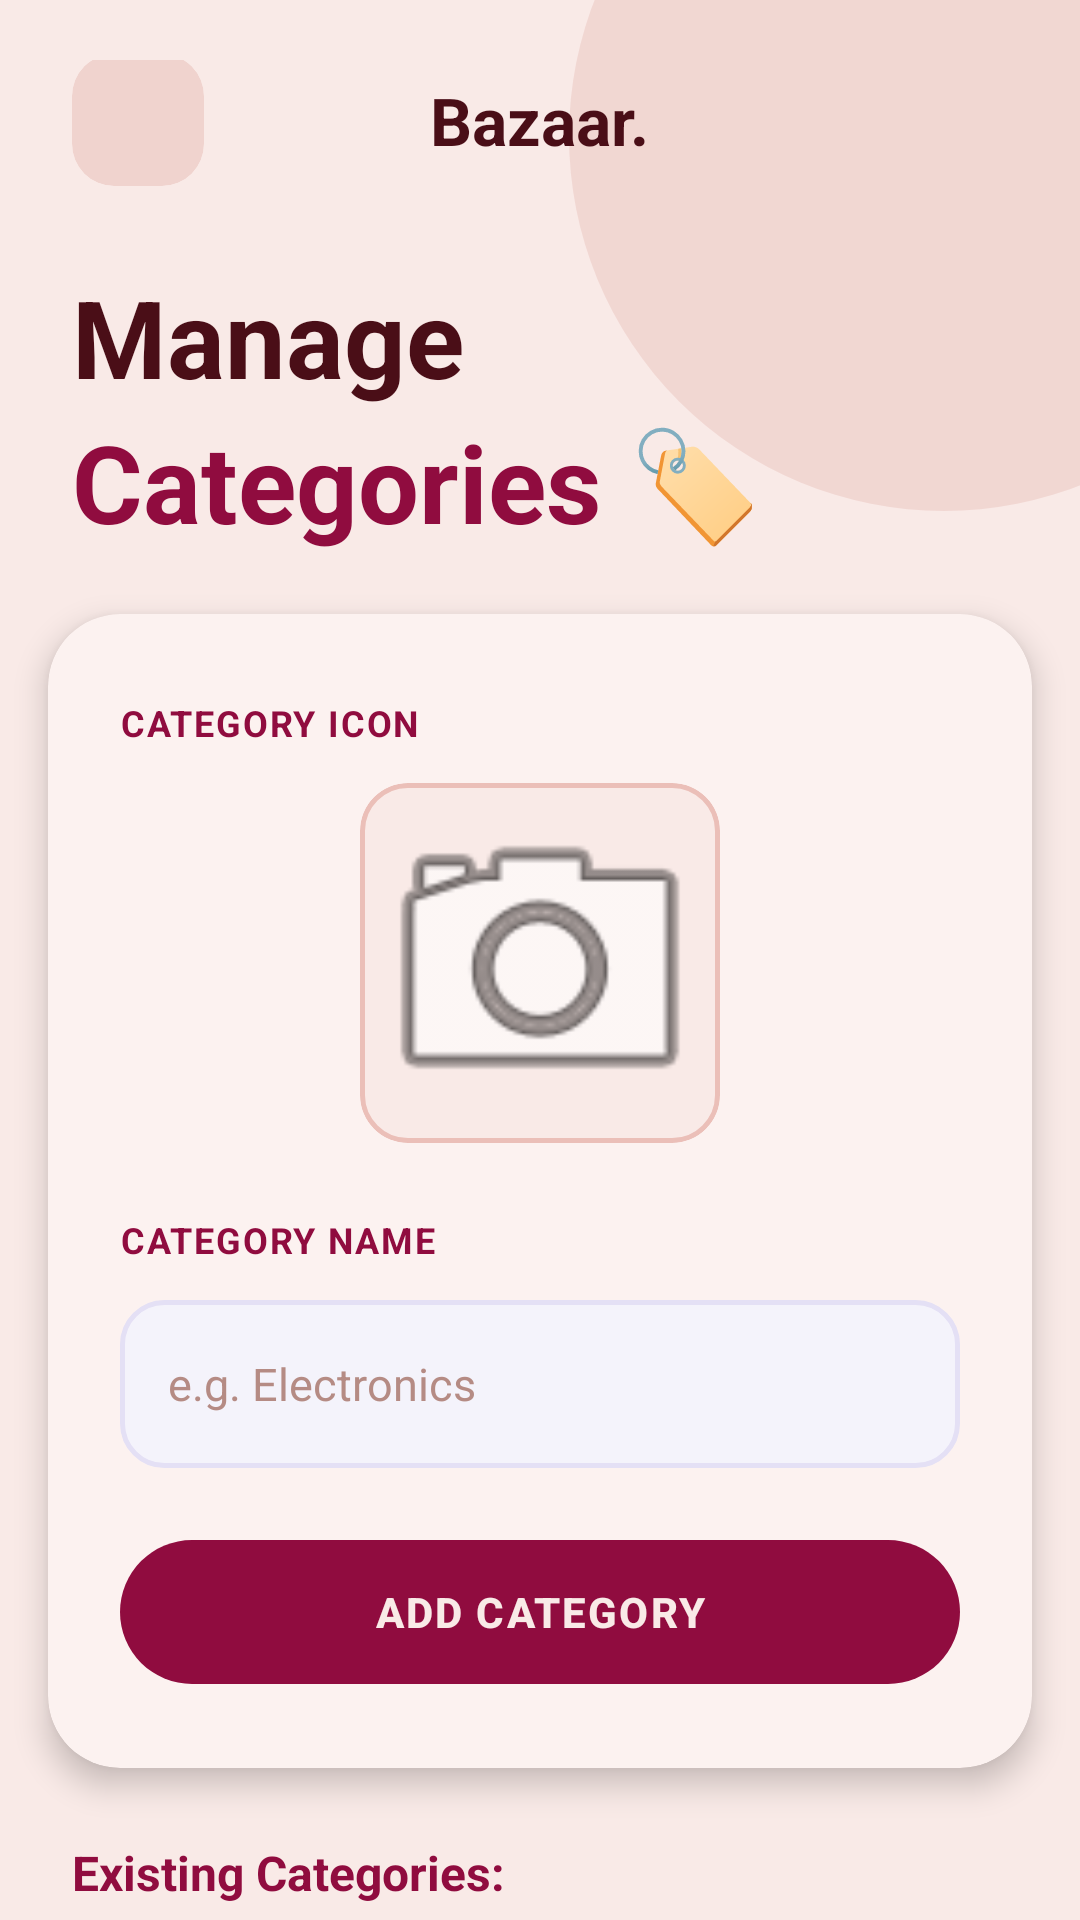

Locate icon controls on the screen. Image size 1080px×1920px, boxes as (x1, y1, x2, y2).
camera: (360, 783, 720, 1143)
